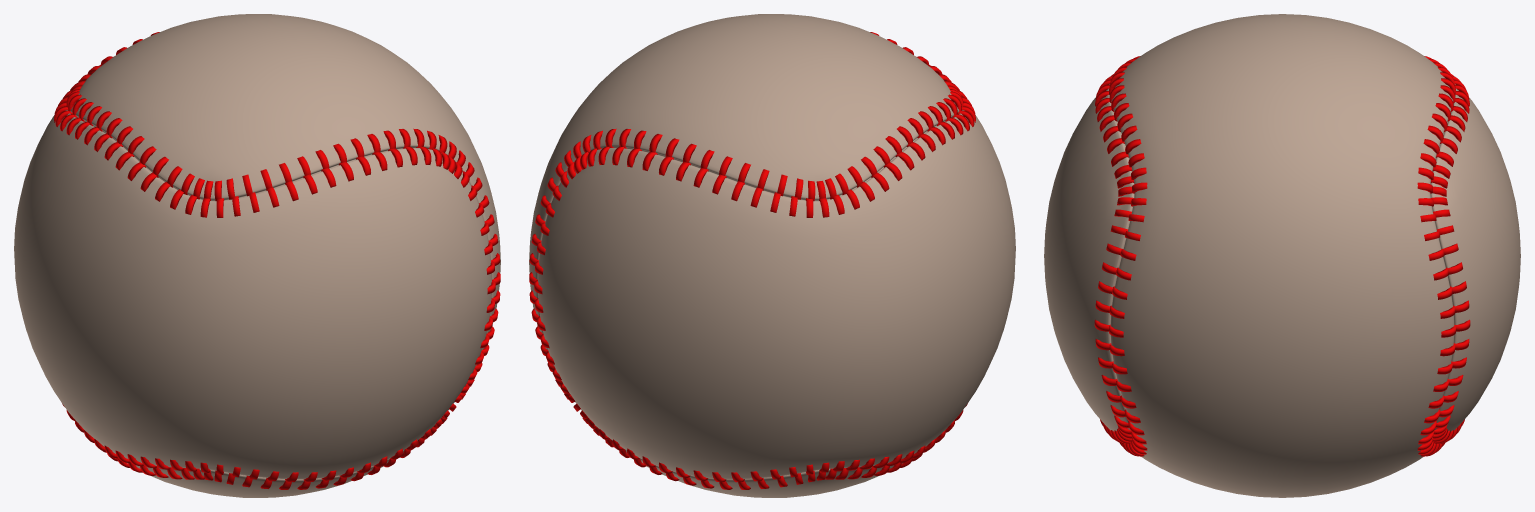
Rendered from yakyuuboru.glb.
3 views of the same model, side by side, from view 1: azimuth 30°, elevation 25°; view 2: azimuth 150°, elevation 25°; view 3: azimuth 270°, elevation 25° (orthographic).
Visible parts, largest first — view 1: 立方体, curve2; view 2: 立方体, curve2; view 3: 立方体, curve2.
Boxes of the visible parts, x1,y1,x2,y2 form: 立方体: (14, 14, 500, 497); curve2: (54, 32, 500, 489); 立方体: (529, 14, 1015, 497); curve2: (529, 32, 975, 489); 立方体: (1044, 14, 1520, 497); curve2: (1094, 56, 1470, 456).
Bounding box in the file's own units: 1.66 × 1.66 × 1.66.
